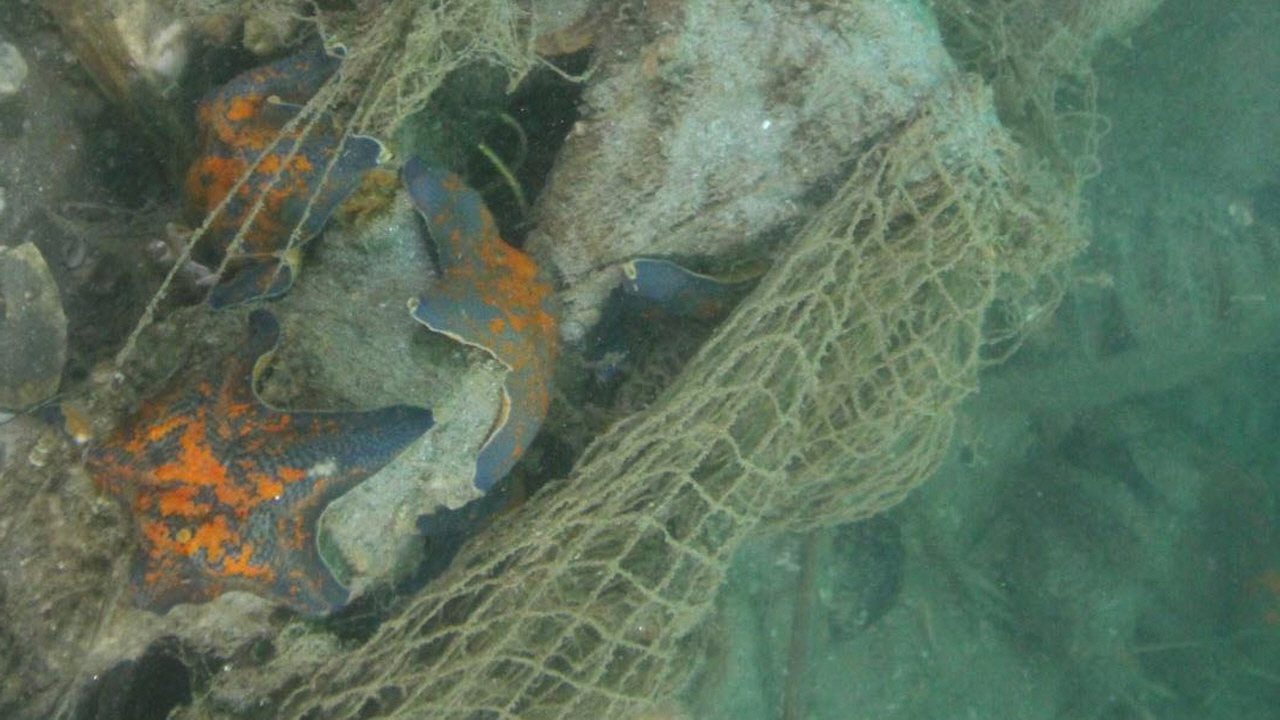fish net: (272, 117, 995, 720)
